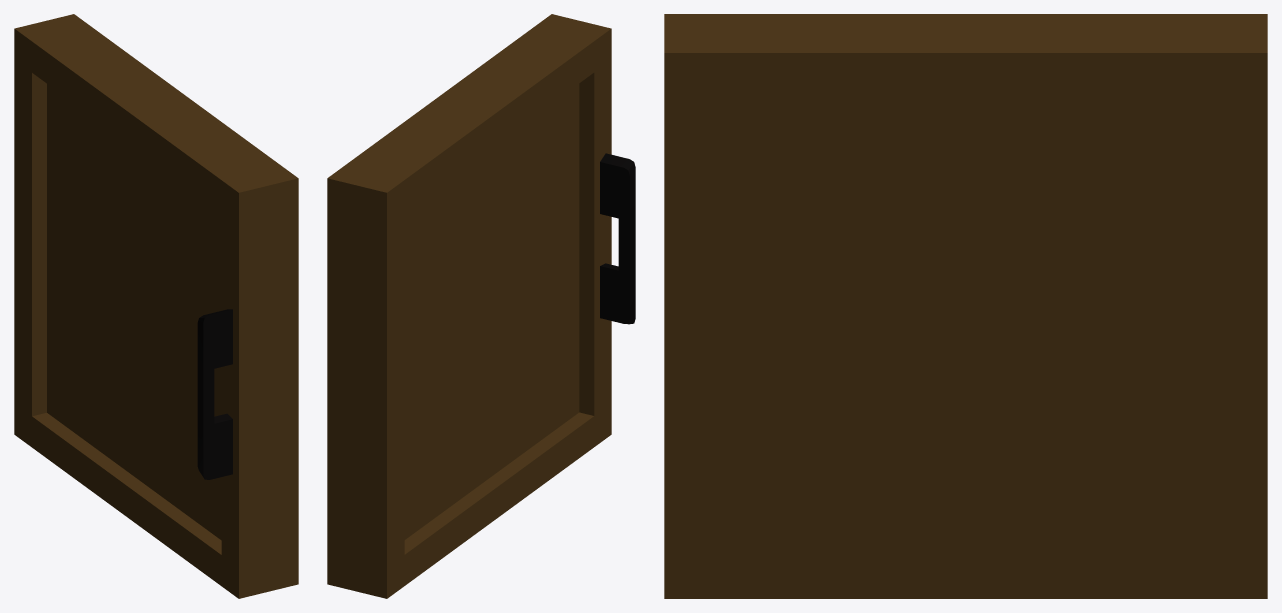
The model's file is L_Winning_ISD1_CabinetDoorLeft.fbx.
3 views of the same model, side by side, from view 1: azimuth 30°, elevation 25°; view 2: azimuth 150°, elevation 25°; view 3: azimuth 270°, elevation 25° (orthographic). The views are drawn at different scales.
Parts seen in each view (by area): view 1: cabinet door; view 2: cabinet door; view 3: cabinet door.
Boxes of the visible parts, bbox=[...] form: cabinet door: bbox=[14, 14, 298, 598]; cabinet door: bbox=[327, 14, 635, 598]; cabinet door: bbox=[664, 14, 1267, 598].
Bounding box in the file's own units: 30 × 130 × 130.
